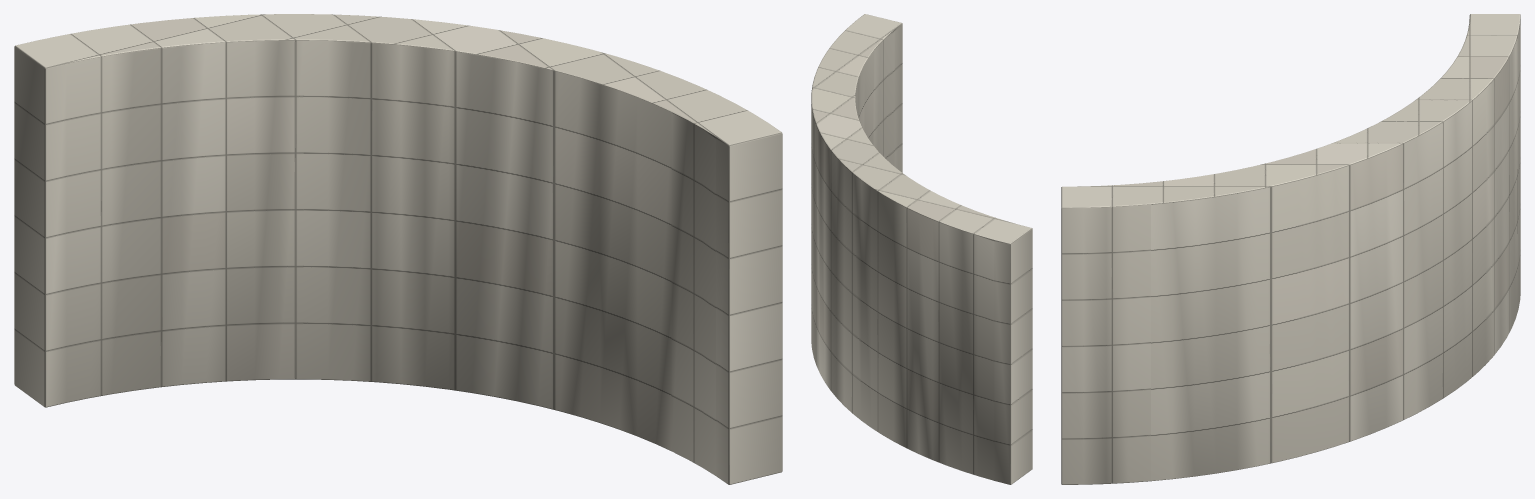
File: MOD_24_PoolEdge_Rounded.glb
The picture shows the model from 3 angles, left to right: view 1: azimuth 30°, elevation 25°; view 2: azimuth 150°, elevation 25°; view 3: azimuth 270°, elevation 25°; orthographic projection. The views are drawn at different scales.
Parts seen in each view (by area): view 1: MOD_24_PoolEdge_Rounded_Export; view 2: MOD_24_PoolEdge_Rounded_Export; view 3: MOD_24_PoolEdge_Rounded_Export.
Boxes of the visible parts, x1,y1,x2,y2 form: MOD_24_PoolEdge_Rounded_Export: (14,14,782,484); MOD_24_PoolEdge_Rounded_Export: (811,14,1032,484); MOD_24_PoolEdge_Rounded_Export: (1061,14,1520,484).
Bounding box in the file's own units: 2.25 × 1.5 × 2.25.
1 material, 1 textured.
